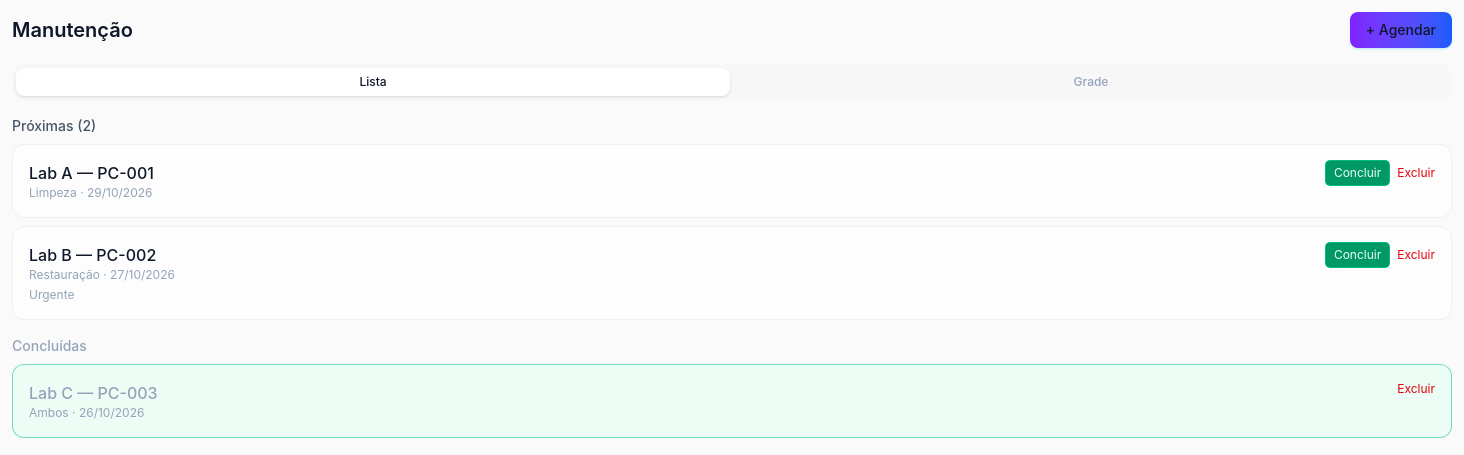
Test: Maintenance › alterna de volta para lista
This screenshot has width=1464, height=455.
Click the button "Grade" at (1091, 82), box [734, 68, 1448, 96]
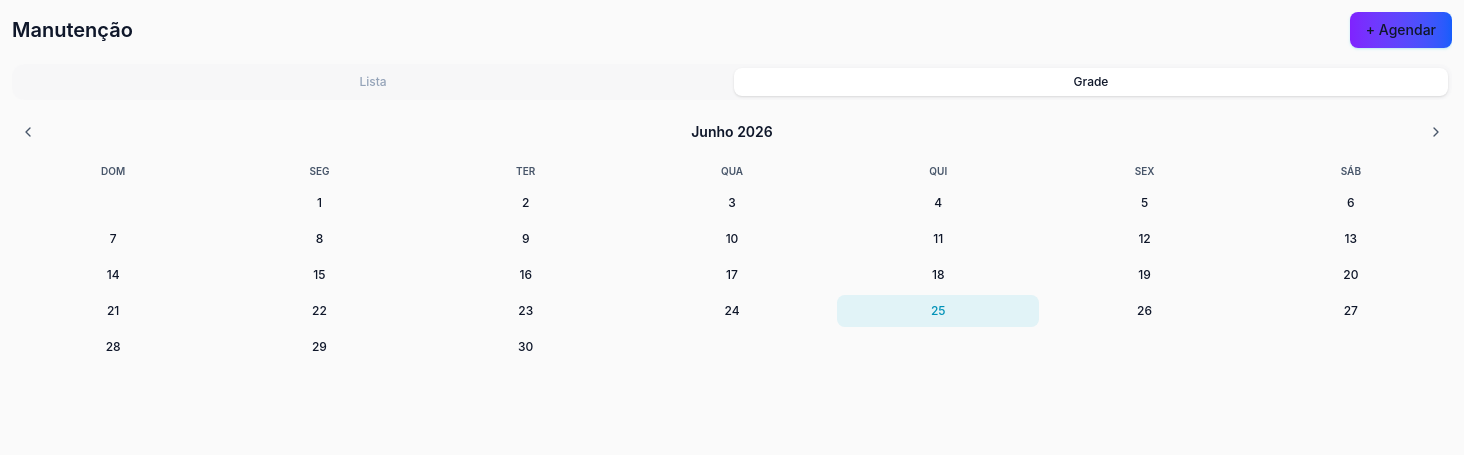
Click the button "Lista" at (373, 82), box [16, 68, 730, 96]
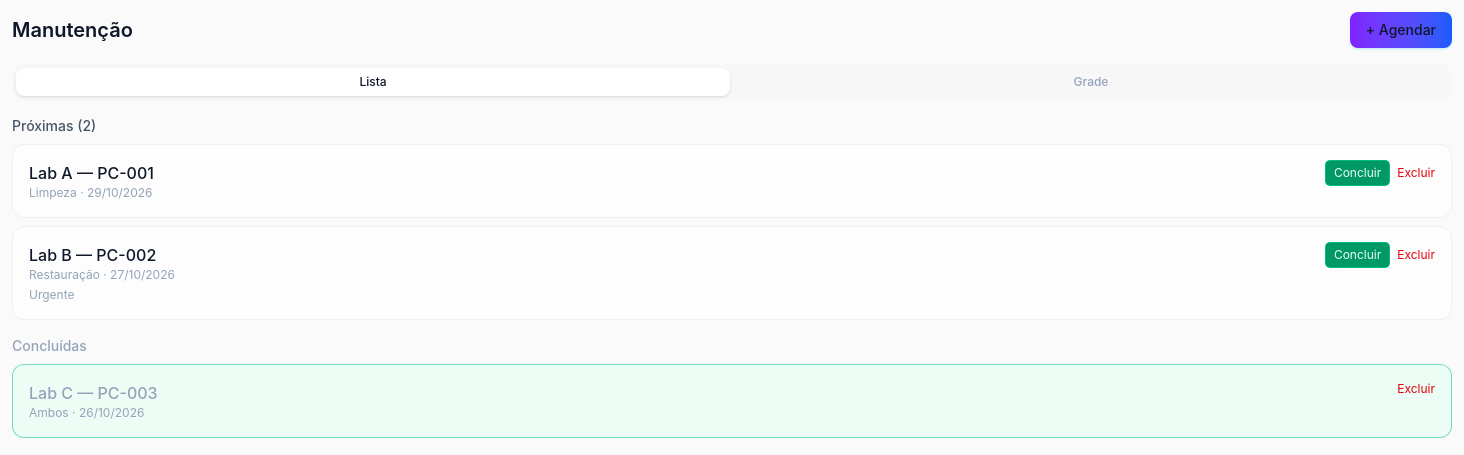
Result: the heading "Próximas (2)" is shown at [12, 117, 96, 134]
